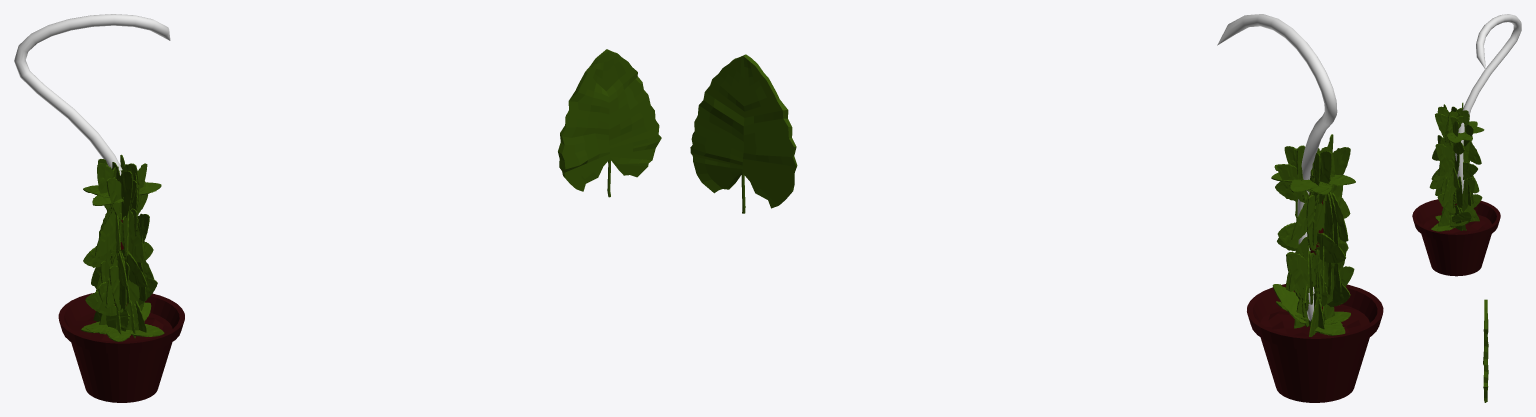
The model's file is Bigpot.fbx.
3 renders of one model, left to right at view 1: azimuth 30°, elevation 25°; view 2: azimuth 150°, elevation 25°; view 3: azimuth 270°, elevation 25°, orthographic. The views are drawn at different scales.
Parts seen in each view (by area): view 1: Cube, Cylinder, BézierCurve, Cylinder.001|Cube|Dupli|45, Cylinder.001|Cube|Dupli|54; view 2: Cube, Cylinder, BézierCurve, Cylinder.001|Cube|Dupli|77, Cylinder.001|Cube|Dupli|76; view 3: Cylinder, BézierCurve, Cube, Cylinder.001|Cube|Dupli|22, Cylinder.001|Cube|Dupli|17, Cylinder.001|Cube|Dupli|4, Cylinder.001|Cube|Dupli|8, Cylinder.001|Cube|Dupli|66, Cylinder.001|Cube|Dupli|72, Cylinder.001|Cube|Dupli|25, Cylinder.001|Cube|Dupli|20, Cylinder.001|Cube|Dupli|96 (+10 smaller).
Boxes of the visible parts, bbox=[...] form: Cube: bbox=[558, 49, 661, 197]; Cylinder: bbox=[58, 293, 184, 402]; BézierCurve: bbox=[14, 14, 170, 175]; Cylinder.001|Cube|Dupli|45: bbox=[95, 210, 122, 256]; Cylinder.001|Cube|Dupli|54: bbox=[121, 210, 143, 262]; Cube: bbox=[690, 54, 797, 213]; Cylinder: bbox=[1247, 284, 1383, 402]; BézierCurve: bbox=[1217, 14, 1337, 321]; Cylinder.001|Cube|Dupli|77: bbox=[1287, 252, 1315, 303]; Cylinder.001|Cube|Dupli|76: bbox=[1306, 195, 1324, 250]; Cylinder: bbox=[1412, 199, 1500, 276]; BézierCurve: bbox=[1455, 14, 1521, 193]; Cube: bbox=[1483, 299, 1488, 402]; Cylinder.001|Cube|Dupli|22: bbox=[1435, 144, 1452, 173]; Cylinder.001|Cube|Dupli|17: bbox=[1461, 179, 1475, 211]; Cylinder.001|Cube|Dupli|4: bbox=[1442, 172, 1456, 201]; Cylinder.001|Cube|Dupli|8: bbox=[1437, 193, 1456, 213]; Cylinder.001|Cube|Dupli|66: bbox=[1435, 113, 1448, 136]; Cylinder.001|Cube|Dupli|72: bbox=[1468, 141, 1481, 164]; Cylinder.001|Cube|Dupli|25: bbox=[1463, 162, 1477, 179]; Cylinder.001|Cube|Dupli|20: bbox=[1438, 209, 1454, 226]; Cylinder.001|Cube|Dupli|96: bbox=[1451, 211, 1471, 224].
Bounding box in the file's own units: 552 × 300 × 120.
